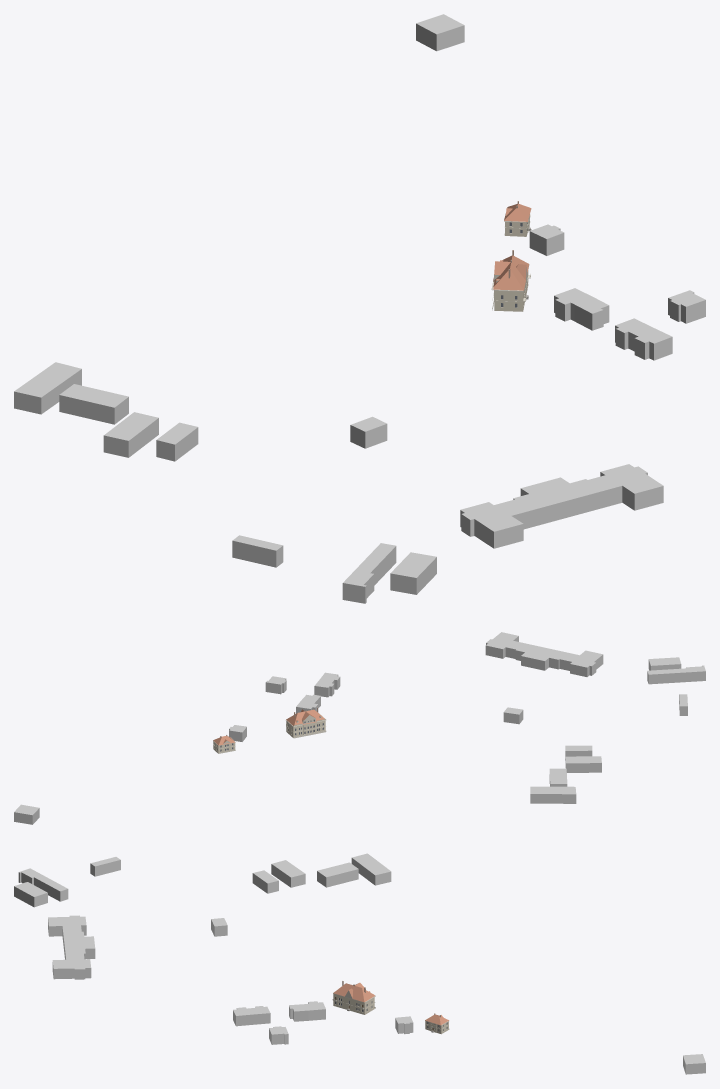
File: paridelska_street.glb
The picture shows the model from 3 angles, top to bottom: view 1: azimuth 30°, elevation 25°; view 2: azimuth 150°, elevation 25°; view 3: azimuth 270°, elevation 25°; orthographic projection. The views are drawn at different scales.
Parts seen in each view (by area): view 1: Context_GIS_1137, Context_GIS_1649, Context_GIS_1648, Context_GIS_1529, Context_GIS_1645, Context_GIS_1531, Context_1084, Context_GIS_1638, Context_GIS_1646, Context_GIS_1566, Context_GIS_1565, Context_421 (+2 smaller); view 2: Context_GIS_1137, Context_GIS_1529, Context_GIS_1649, Context_GIS_1645, CP_426_Masonry, Context_1084, Context_GIS_1531, Context_GIS_1648, Context_GIS_1565, Context_GIS_1646, Context_GIS_1567; view 3: Context_GIS_1137, Context_GIS_1649, Context_GIS_1529, Context_GIS_1648, Context_GIS_1645, Context_GIS_1531, CP_426_Masonry, Context_GIS_1646, Context_GIS_1638, Context_1084, CP_426_Roof, Context_GIS_1566.
Part boxes in pixels (box(x1,y1,x2,y2)): Context_GIS_1137: box(460, 464, 663, 548); Context_GIS_1649: box(14, 362, 81, 414); Context_GIS_1648: box(59, 384, 128, 424); Context_GIS_1529: box(342, 543, 396, 603); Context_GIS_1645: box(103, 412, 158, 457); Context_GIS_1531: box(390, 552, 436, 594); Context_1084: box(416, 14, 464, 51); Context_GIS_1638: box(232, 535, 283, 567); Context_GIS_1646: box(156, 422, 198, 461); Context_GIS_1566: box(633, 327, 672, 360); Context_GIS_1565: box(668, 290, 705, 323); Context_421: box(350, 416, 387, 448); Context_GIS_1137: box(485, 632, 603, 676); Context_GIS_1529: box(647, 665, 705, 684); Context_GIS_1649: box(530, 786, 576, 803); Context_GIS_1645: box(565, 756, 601, 772); CP_426_Masonry: box(286, 720, 325, 737); Context_1084: box(14, 804, 39, 824); Context_GIS_1531: box(648, 657, 681, 670); Context_GIS_1648: box(549, 768, 567, 786); Context_GIS_1565: box(265, 676, 286, 694); Context_GIS_1646: box(565, 745, 592, 760); Context_GIS_1567: box(314, 679, 334, 697); Context_GIS_1137: box(48, 915, 95, 979); Context_GIS_1649: box(351, 853, 391, 885); Context_GIS_1529: box(18, 868, 68, 901); Context_GIS_1648: box(317, 862, 358, 887); Context_GIS_1645: box(271, 860, 305, 887); Context_GIS_1531: box(14, 882, 47, 907); CP_426_Masonry: box(333, 994, 374, 1014); Context_GIS_1646: box(252, 870, 278, 893); Context_GIS_1638: box(90, 857, 120, 876); Context_1084: box(683, 1054, 705, 1074); CP_426_Roof: box(333, 983, 374, 1002); Context_GIS_1566: box(233, 1007, 254, 1026).
Bounding box in the file's own units: 352 × 18 × 488.
